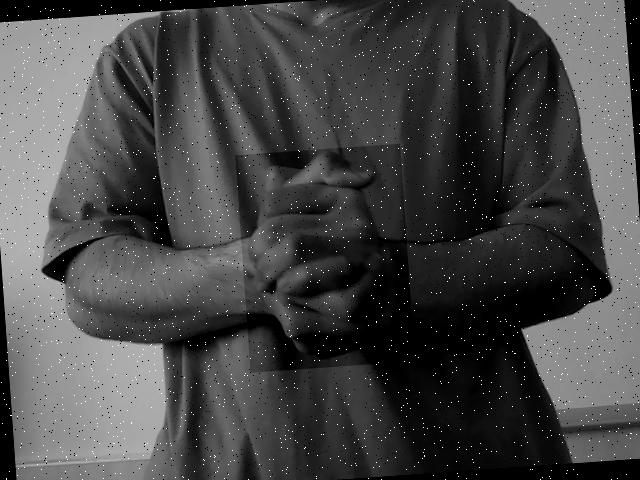friend: (241, 148, 411, 368)
